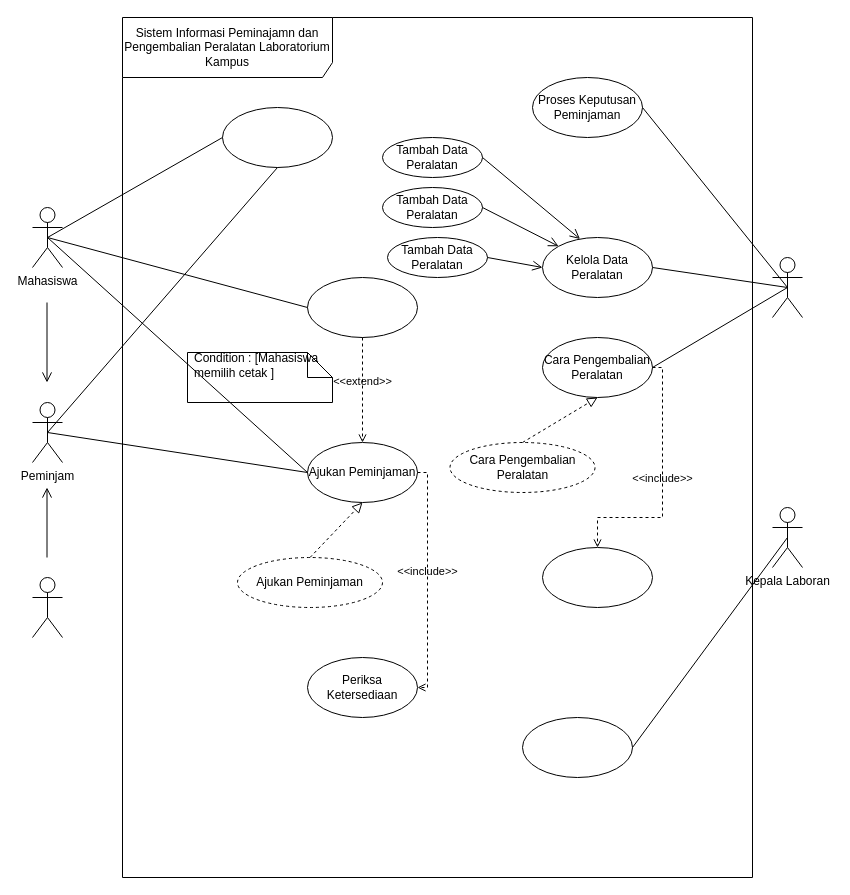
This 850x895 diagram has some shape labels left out. Here are the shapes that lost their labels. From the top down, the centre of each, then its label:
(x=277, y=137): Lihat Ketersediaan Peralatan
(x=362, y=307): Cetak Bukti Pengajuan
(x=787, y=287): Petugas Laboran
(x=259, y=377): Extension point : Bukti Pengajuan tersedia
(x=597, y=577): Perikas Kondisi Peralatan
(x=47, y=607): Dosen
(x=577, y=747): Lihat Laporan Peminjaman
